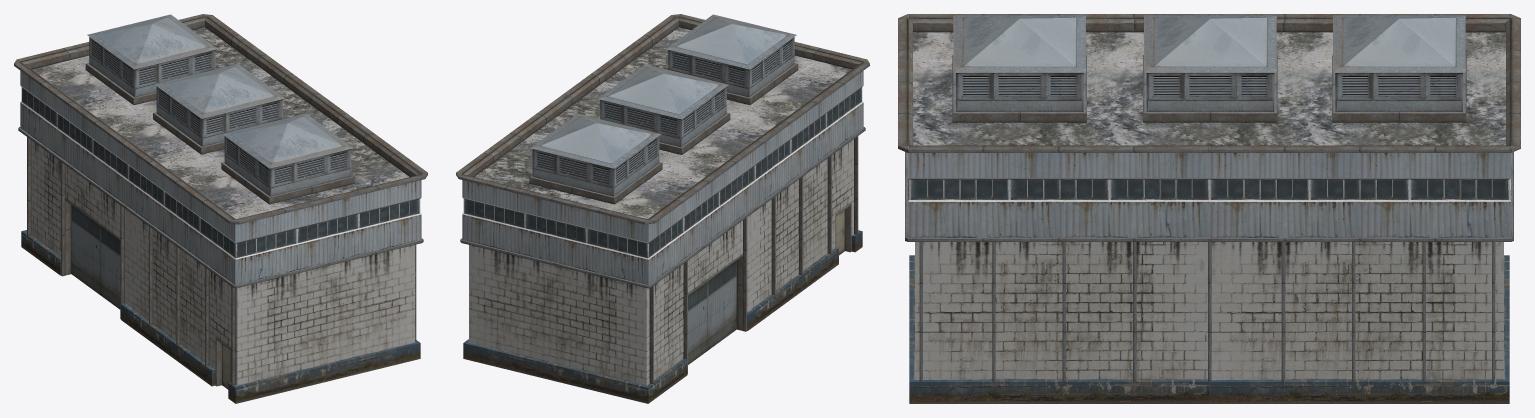
Rendered from Hangar_v4 (3).glb.
3 renders of one model, left to right at view 1: azimuth 30°, elevation 25°; view 2: azimuth 150°, elevation 25°; view 3: azimuth 270°, elevation 25°, orthographic. The views are drawn at different scales.
Visible parts, largest first — view 1: Hangar_v4 (3); view 2: Hangar_v4 (3); view 3: Hangar_v4 (3).
Part boxes in pixels (<box>): Hangar_v4 (3): <box>14,14,427,403</box>; Hangar_v4 (3): <box>456,14,869,403</box>; Hangar_v4 (3): <box>898,14,1520,403</box>.
Bounding box in the file's own units: 11.67 × 12.88 × 22.62.
Materials: 1 (1 with a texture image).
